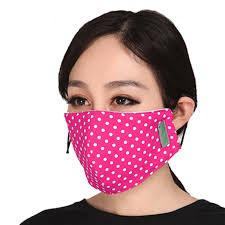OK: (66, 78, 182, 194)
